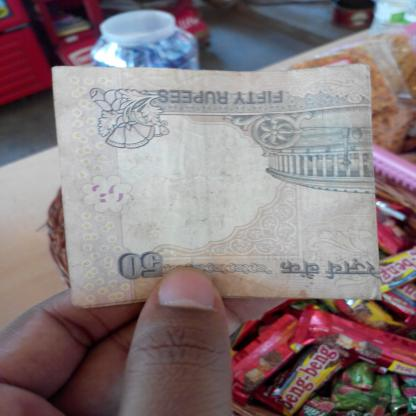Old50Back: (51, 63, 383, 310)
